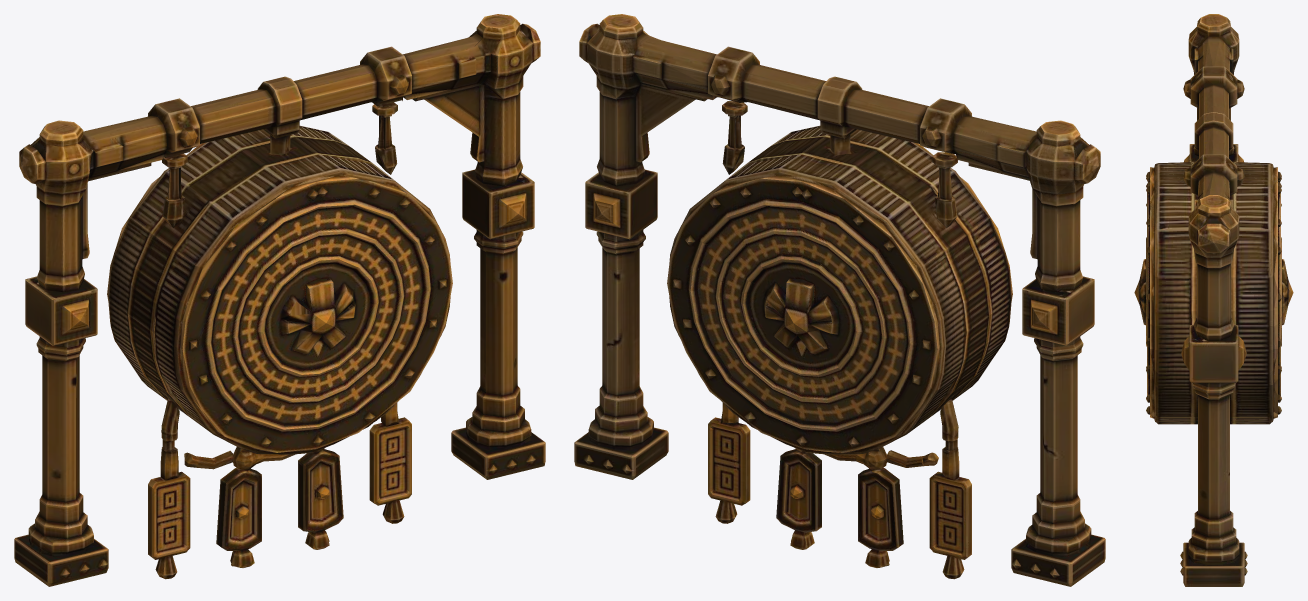
Rendered from CooperDrumhanger.glb.
3 renders of one model, left to right at view 1: azimuth 30°, elevation 25°; view 2: azimuth 150°, elevation 25°; view 3: azimuth 270°, elevation 25°, orthographic. The views are drawn at different scales.
Size of the model in its own units: 1.91 by 1.69 by 0.5987.
Materials: 1 (1 with a texture image).
